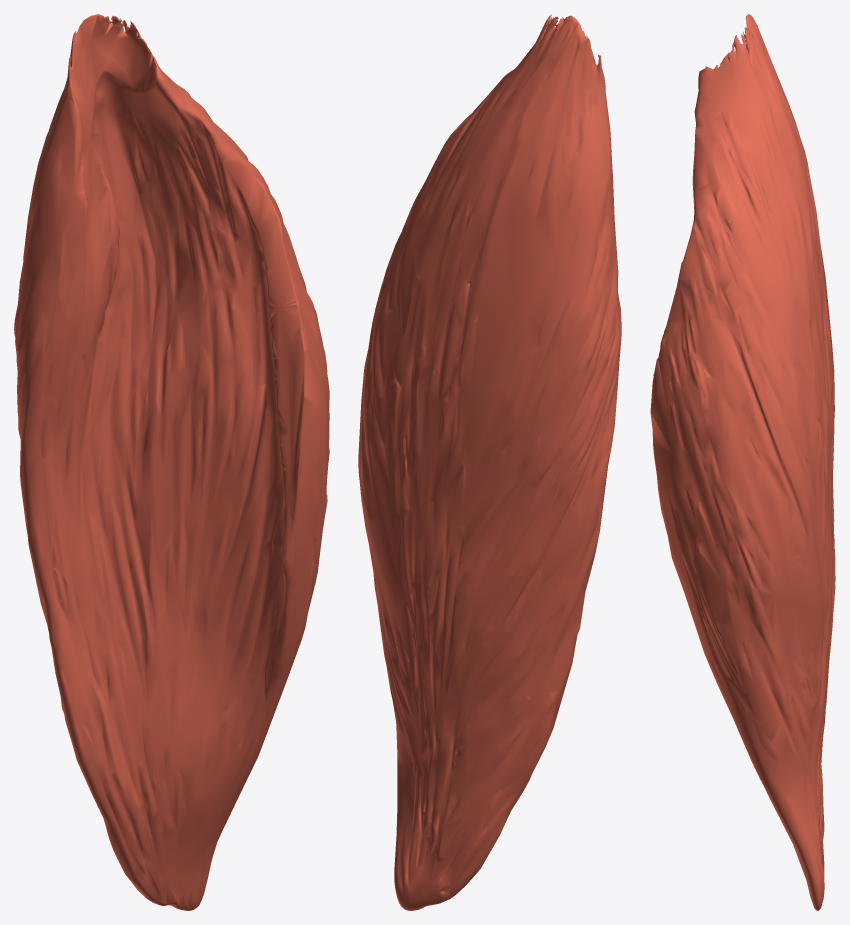
Rendered from soleus.glb.
The picture shows the model from 3 angles, left to right: view 1: azimuth 30°, elevation 25°; view 2: azimuth 150°, elevation 25°; view 3: azimuth 270°, elevation 25°; orthographic projection. The views are drawn at different scales.
Visible parts, largest first — view 1: Soleus muscle.r; view 2: Soleus muscle.r; view 3: Soleus muscle.r.
Boxes of the visible parts, <box> form: Soleus muscle.r: <box>14,14,329,910</box>; Soleus muscle.r: <box>358,14,621,910</box>; Soleus muscle.r: <box>650,14,835,910</box>.
Bounding box in the file's own units: 0.0852 × 0.2757 × 0.0552.
